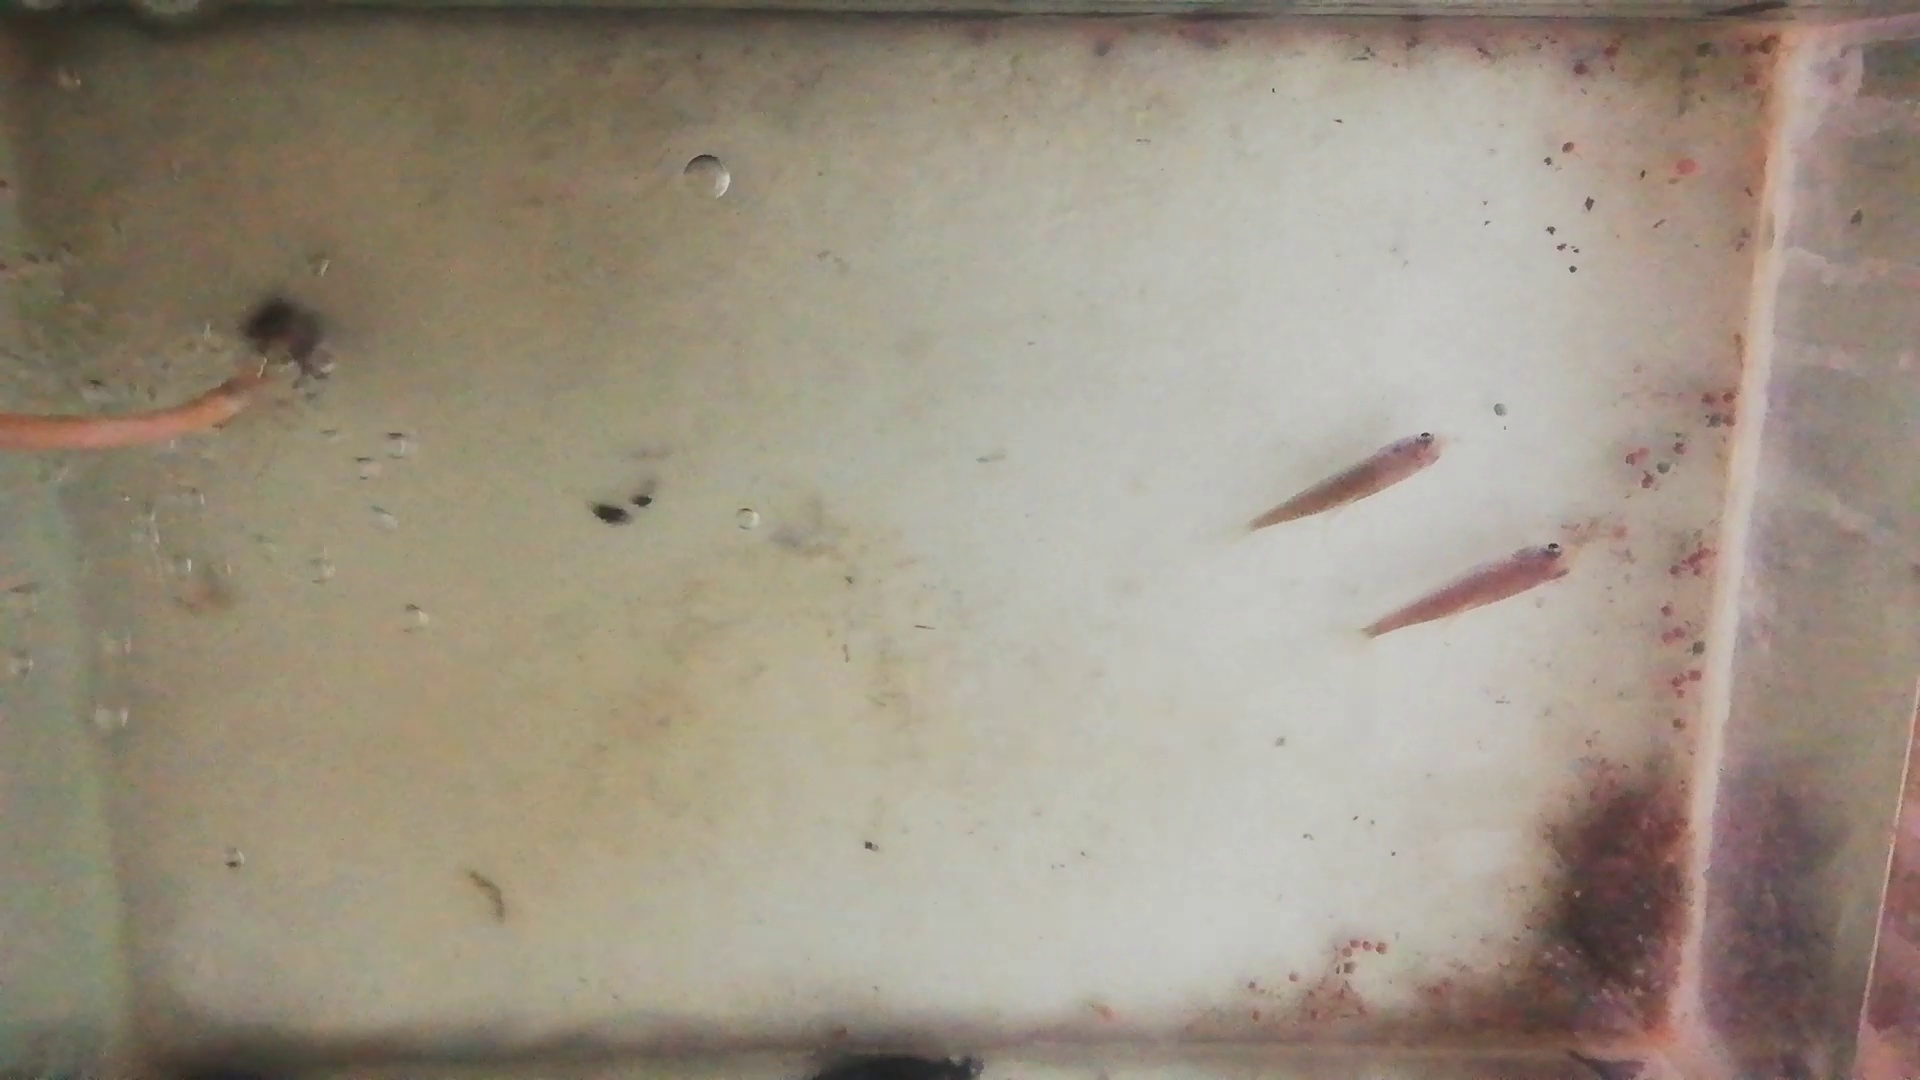fish: (1364, 541, 1573, 636), (1251, 433, 1448, 529)
